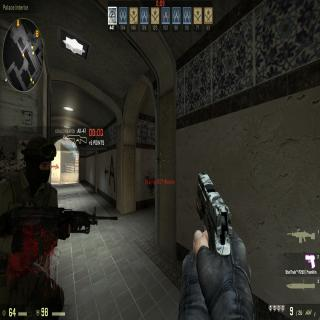CT-Body: (0, 137, 60, 317)
CT-Head: (22, 135, 56, 185)
